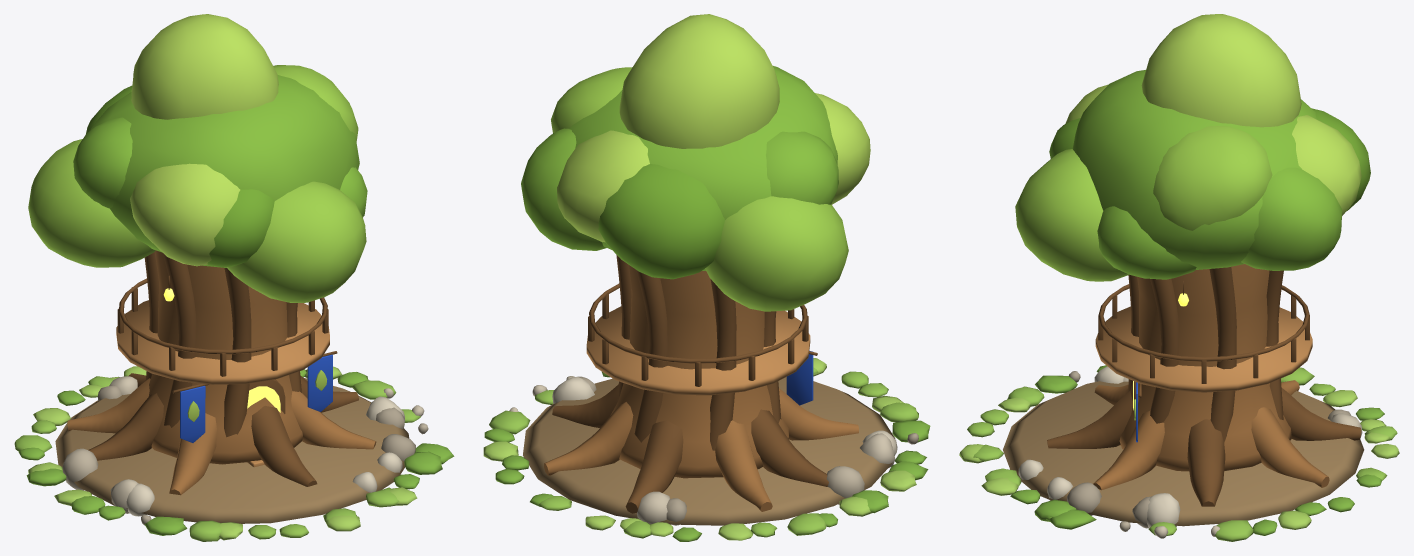
The model's file is b_heartwood.glb.
3 renders of one model, left to right at view 1: azimuth 30°, elevation 25°; view 2: azimuth 150°, elevation 25°; view 3: azimuth 270°, elevation 25°, orthographic. The views are drawn at different scales.
Parts seen in each view (by area): view 1: root_matte#86bc40, root_matte#9ccc4c, root_matte#b6dc5c, mound, root_matte#a0703f, root_matte#74502c, root_matte#c08a52, root_matte#7fb243, root_matte#94c252, root_matte#76aa36, root_matte#a8d060, root_team (+4 smaller); view 2: root_matte#b6dc5c, root_matte#a0703f, root_matte#86bc40, mound, root_matte#74502c, root_matte#9ccc4c, root_matte#76aa36, root_matte#c08a52, root_matte#94c252, root_matte#7fb243, root_matte#a8d060, root_matte#c9bea8 (+4 smaller); view 3: root_matte#86bc40, root_matte#a0703f, mound, root_matte#b6dc5c, root_matte#9ccc4c, root_matte#74502c, root_matte#c08a52, root_matte#94c252, root_matte#7fb243, root_matte#a8d060, root_matte#d6ccb6, root_matte#76aa36 (+2 smaller).
Part boxes in pixels (x1,y1,x2,y2): root_matte#86bc40: [73, 74, 367, 267]; root_matte#9ccc4c: [28, 65, 366, 302]; root_matte#b6dc5c: [130, 14, 327, 421]; mound: [55, 377, 409, 523]; root_matte#a0703f: [67, 250, 376, 495]; root_matte#74502c: [88, 252, 358, 486]; root_matte#c08a52: [116, 300, 329, 467]; root_matte#7fb243: [18, 369, 454, 535]; root_matte#94c252: [14, 376, 420, 541]; root_matte#76aa36: [86, 85, 274, 267]; root_matte#a8d060: [28, 366, 417, 540]; root_team: [180, 354, 332, 442]; root_matte#b6dc5c: [557, 14, 870, 242]; root_matte#a0703f: [544, 265, 858, 511]; root_matte#86bc40: [521, 66, 838, 270]; mound: [523, 377, 895, 525]; root_matte#74502c: [552, 255, 828, 513]; root_matte#9ccc4c: [551, 67, 848, 311]; root_matte#76aa36: [598, 164, 724, 279]; root_matte#c08a52: [586, 306, 810, 395]; root_matte#94c252: [489, 367, 918, 538]; root_matte#7fb243: [484, 372, 930, 541]; root_matte#a8d060: [483, 358, 916, 540]; root_matte#c9bea8: [509, 385, 895, 524]; root_matte#86bc40: [1072, 70, 1342, 279]; root_matte#a0703f: [1093, 264, 1329, 490]; mound: [1003, 381, 1364, 526]; root_matte#b6dc5c: [1065, 14, 1361, 420]; root_matte#9ccc4c: [1015, 126, 1272, 281]; root_matte#74502c: [1047, 267, 1361, 506]; root_matte#c08a52: [1095, 306, 1312, 445]; root_matte#94c252: [967, 367, 1397, 541]; root_matte#7fb243: [1010, 365, 1384, 535]; root_matte#a8d060: [959, 390, 1399, 529]; root_matte#d6ccb6: [1018, 366, 1180, 528]; root_matte#76aa36: [1049, 108, 1370, 210].
Size of the model in its own units: 4.19 by 4.68 by 4.26.
